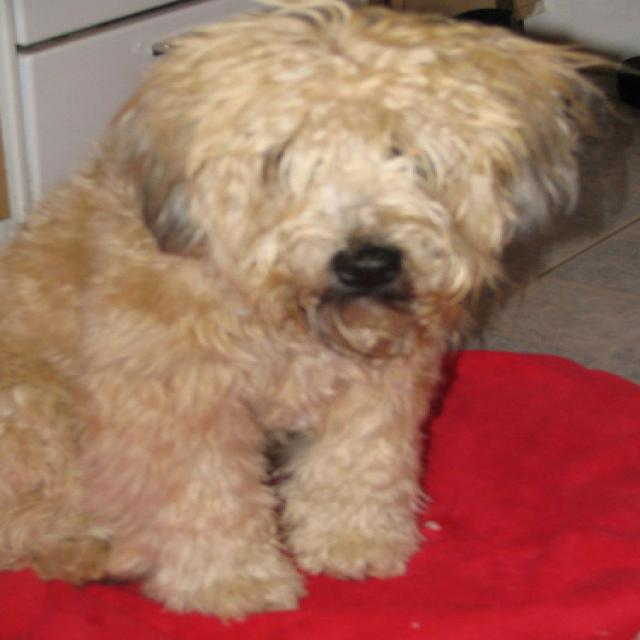dog-wheaten_terrier: (2, 1, 594, 621)
